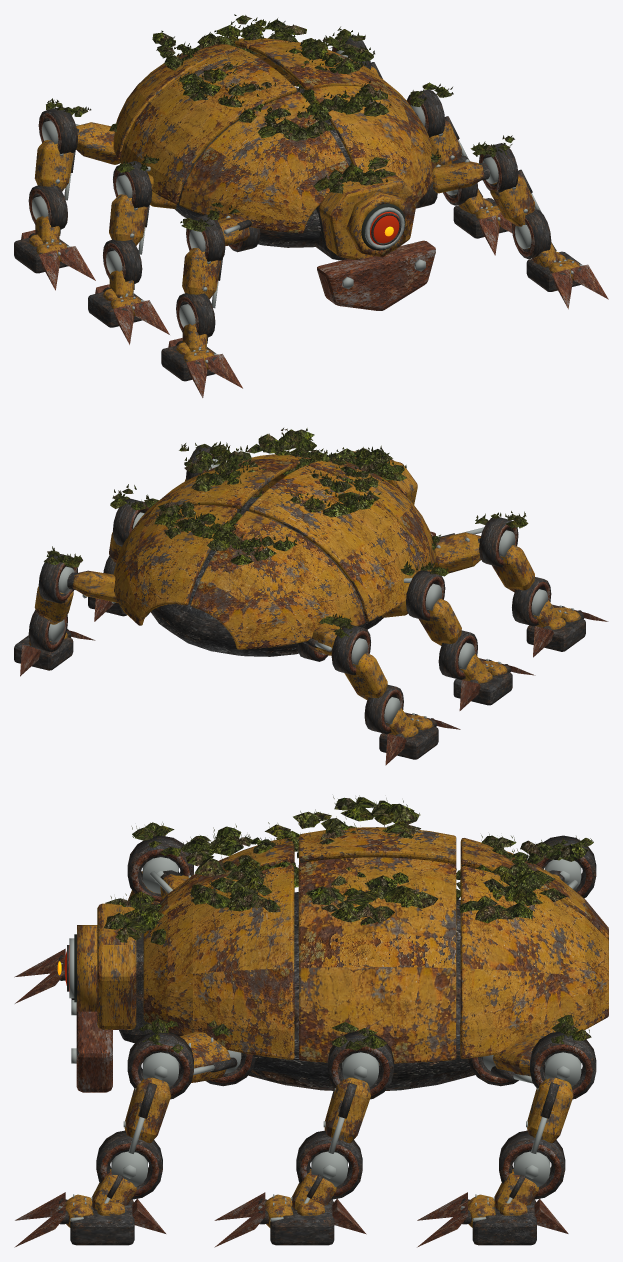
The model's file is iron-beetle.glb.
3 renders of one model, top to bottom at view 1: azimuth 30°, elevation 25°; view 2: azimuth 150°, elevation 25°; view 3: azimuth 270°, elevation 25°, orthographic. The views are drawn at different scales.
Parts seen in each view (by area): view 1: Carapace_Mesh, Front_head_Mesh, Beetle_-1_0_segment_1_Mesh, Beetle_-1_2_segment_1_Mesh, Beetle_-1_1_segment_1_Mesh, Beetle_1_2_segment_1_Mesh, Beetle_1_1_segment_1_Mesh, Beetle_-1_2_foot_Mesh, Beetle_-1_1_foot_Mesh, Beetle_-1_0_foot_Mesh, Beetle_1_2_foot_Mesh, Chassis_Mesh (+10 smaller); view 2: Carapace_Mesh, Chassis_Mesh, Beetle_-1_1_segment_1_Mesh, Beetle_-1_2_segment_1_Mesh, Beetle_-1_0_segment_1_Mesh, Beetle_1_0_segment_1_Mesh, Beetle_-1_2_foot_Mesh, Beetle_-1_0_foot_Mesh, Beetle_-1_1_foot_Mesh, Beetle_-1_2_segment_0_Mesh, Beetle_-1_0_segment_2_Mesh, Beetle_-1_1_segment_2_Mesh (+9 smaller); view 3: Carapace_Mesh, Front_head_Mesh, Beetle_1_0_segment_1_Mesh, Beetle_1_2_segment_1_Mesh, Beetle_1_1_segment_1_Mesh, Chassis_Mesh, Beetle_1_0_foot_Mesh, Beetle_1_1_foot_Mesh, Beetle_1_2_foot_Mesh, Beetle_1_0_segment_2_Mesh, Beetle_1_1_segment_2_Mesh, Beetle_1_2_segment_2_Mesh (+5 smaller).
Boxes of the visible parts, x1,y1,x2,y2 form: Carapace_Mesh: [113, 14, 435, 233]; Front_head_Mesh: [313, 157, 435, 310]; Beetle_-1_0_segment_1_Mesh: [34, 98, 91, 200]; Beetle_-1_2_segment_1_Mesh: [180, 208, 225, 308]; Beetle_-1_1_segment_1_Mesh: [109, 154, 159, 254]; Beetle_1_2_segment_1_Mesh: [470, 135, 541, 226]; Beetle_1_1_segment_1_Mesh: [406, 82, 468, 166]; Beetle_-1_2_foot_Mesh: [161, 338, 242, 397]; Beetle_-1_1_foot_Mesh: [88, 284, 169, 344]; Beetle_-1_0_foot_Mesh: [14, 230, 95, 290]; Beetle_1_2_foot_Mesh: [526, 251, 608, 309]; Chassis_Mesh: [174, 87, 351, 247]; Carapace_Mesh: [113, 428, 435, 649]; Chassis_Mesh: [150, 497, 383, 656]; Beetle_-1_1_segment_1_Mesh: [400, 561, 461, 645]; Beetle_-1_2_segment_1_Mesh: [475, 511, 534, 592]; Beetle_-1_0_segment_1_Mesh: [331, 613, 387, 699]; Beetle_1_0_segment_1_Mesh: [34, 546, 82, 624]; Beetle_-1_2_foot_Mesh: [526, 604, 608, 657]; Beetle_-1_0_foot_Mesh: [379, 712, 460, 765]; Beetle_-1_1_foot_Mesh: [453, 658, 535, 710]; Beetle_-1_2_segment_0_Mesh: [431, 527, 483, 573]; Beetle_-1_0_segment_2_Mesh: [364, 685, 412, 735]; Beetle_-1_1_segment_2_Mesh: [438, 630, 486, 681]; Carapace_Mesh: [143, 795, 608, 1063]; Front_head_Mesh: [57, 891, 165, 1092]; Beetle_1_0_segment_1_Mesh: [526, 1013, 596, 1153]; Beetle_1_2_segment_1_Mesh: [123, 1015, 193, 1153]; Beetle_1_1_segment_1_Mesh: [323, 1020, 393, 1153]; Chassis_Mesh: [241, 892, 482, 1090]; Beetle_1_0_foot_Mesh: [417, 1192, 568, 1247]; Beetle_1_1_foot_Mesh: [214, 1192, 366, 1247]; Beetle_1_2_foot_Mesh: [14, 1192, 165, 1247]; Beetle_1_0_segment_2_Mesh: [493, 1130, 565, 1209]; Beetle_1_1_segment_2_Mesh: [291, 1130, 362, 1209]; Beetle_1_2_segment_2_Mesh: [91, 1130, 162, 1209].
Bounding box in the file's own units: 2.47 × 1.12 × 2.29.
Materials: 8 (4 with a texture image).
